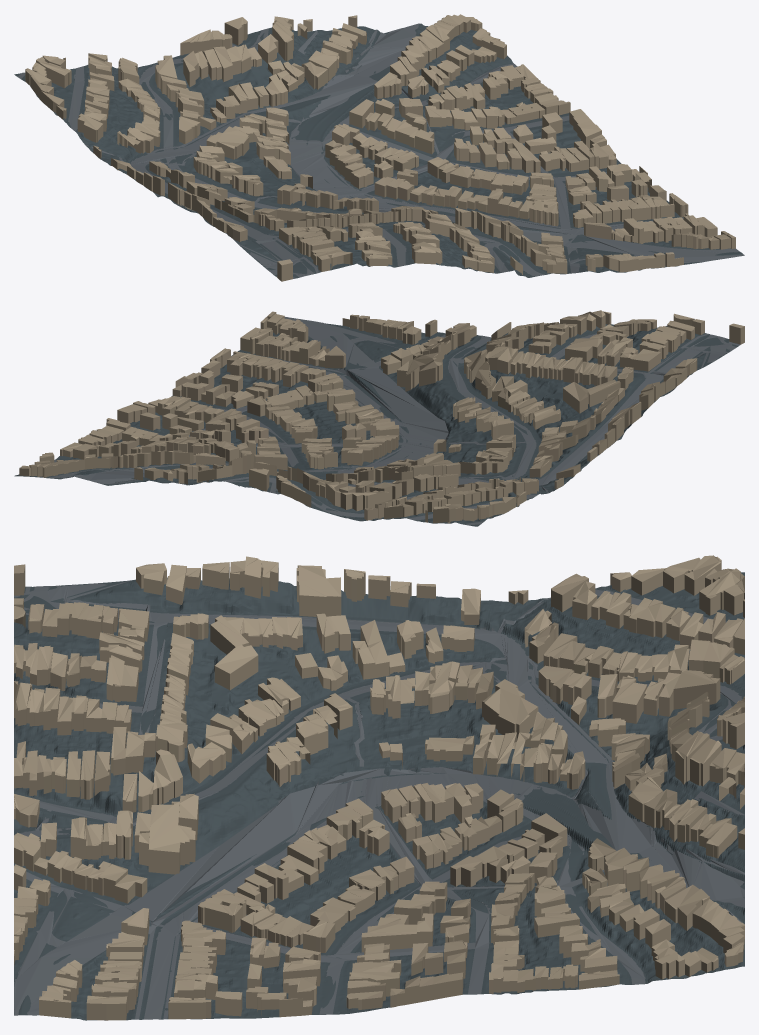
The model's file is epsg26910-1429-10883.lod0.glb.
The picture shows the model from 3 angles, top to bottom: view 1: azimuth 30°, elevation 25°; view 2: azimuth 150°, elevation 25°; view 3: azimuth 270°, elevation 25°; orthographic projection. The views are drawn at different scales.
Parts seen in each view (by area): view 1: epsg26910-1429-10883-lod0; view 2: epsg26910-1429-10883-lod0; view 3: epsg26910-1429-10883-lod0.
Part boxes in pixels (x1,y1,x2,y2): epsg26910-1429-10883-lod0: (14, 14, 744, 281); epsg26910-1429-10883-lod0: (14, 310, 744, 526); epsg26910-1429-10883-lod0: (14, 555, 744, 1020).
Bounding box in the file's own units: 384 × 90.53 × 384.
